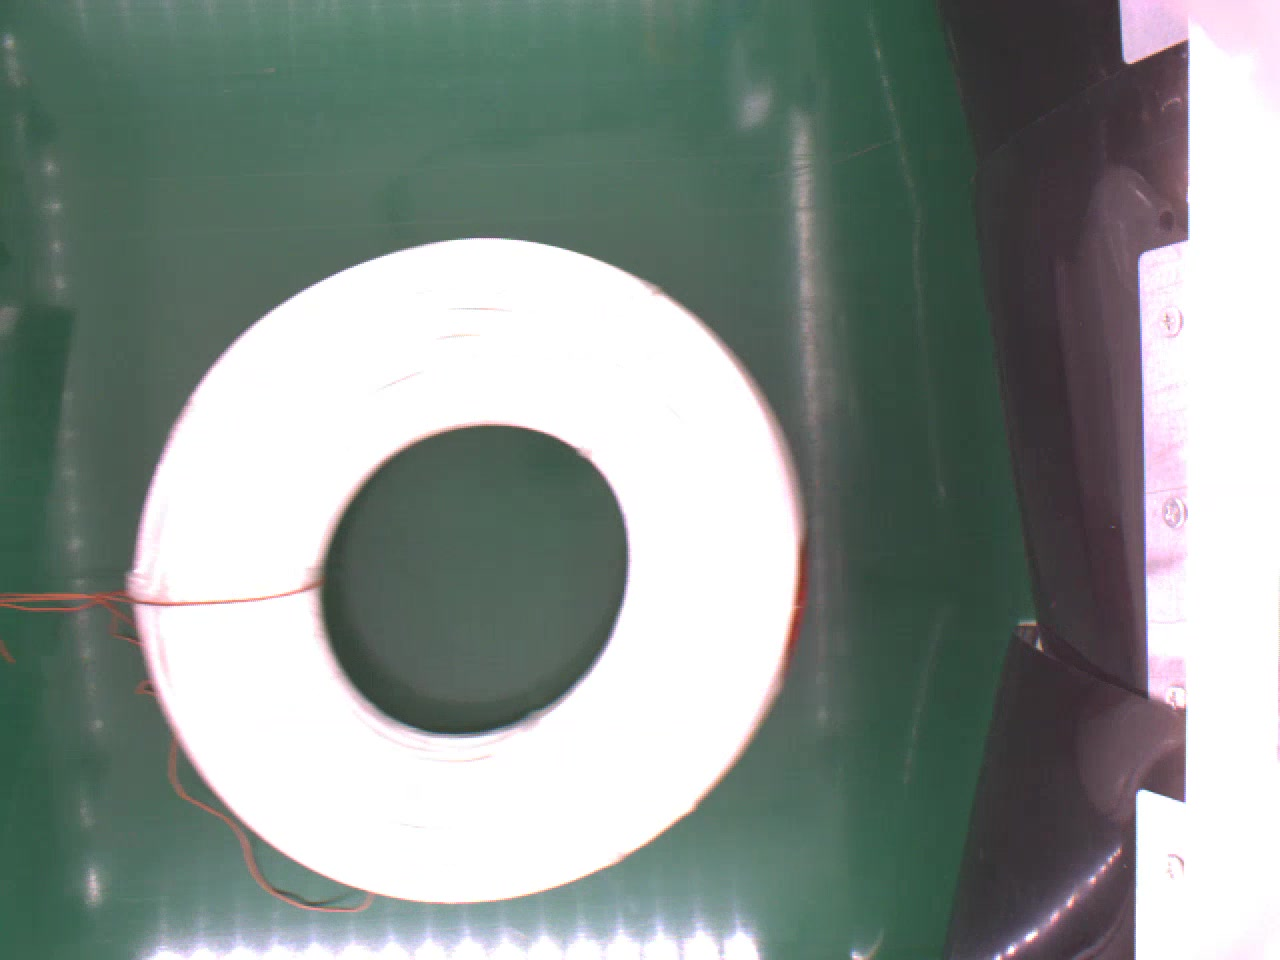white: (123, 232, 805, 902)
